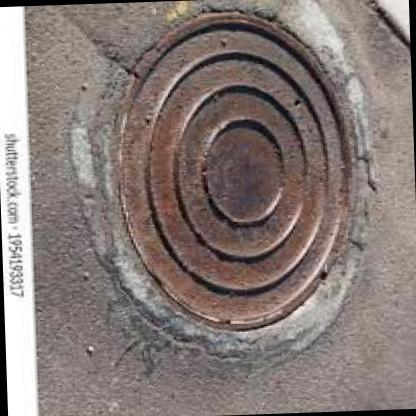manholes: (43, 0, 380, 380)
